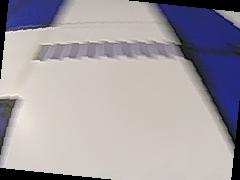CrossWalk: (25, 33, 192, 69)
